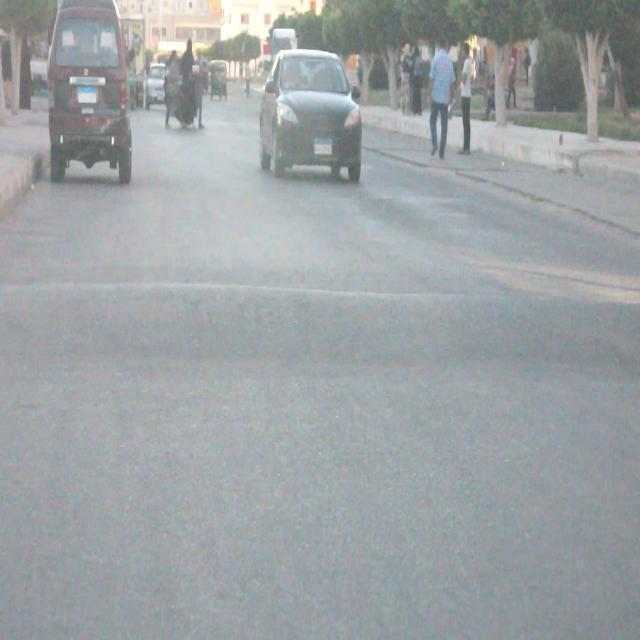NonMarked Bump: (15, 262, 640, 395)
